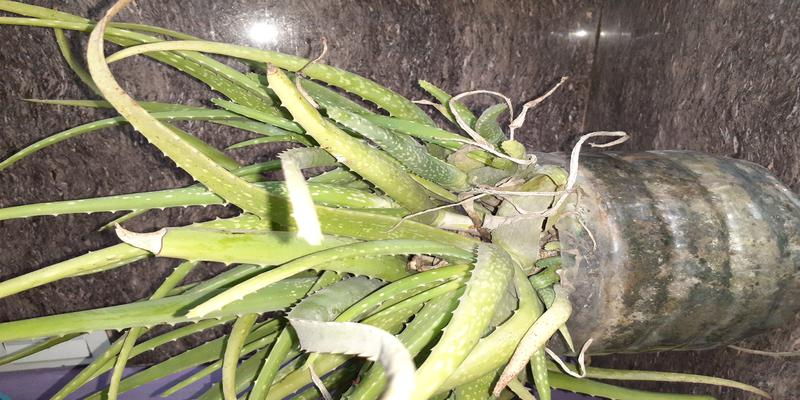Aloevera: (83, 35, 563, 392)
